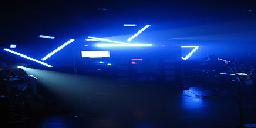LED: (41, 32, 76, 68), (126, 23, 155, 44), (180, 43, 203, 64)
